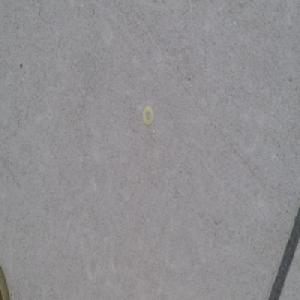Washer: (142, 106, 153, 127)
